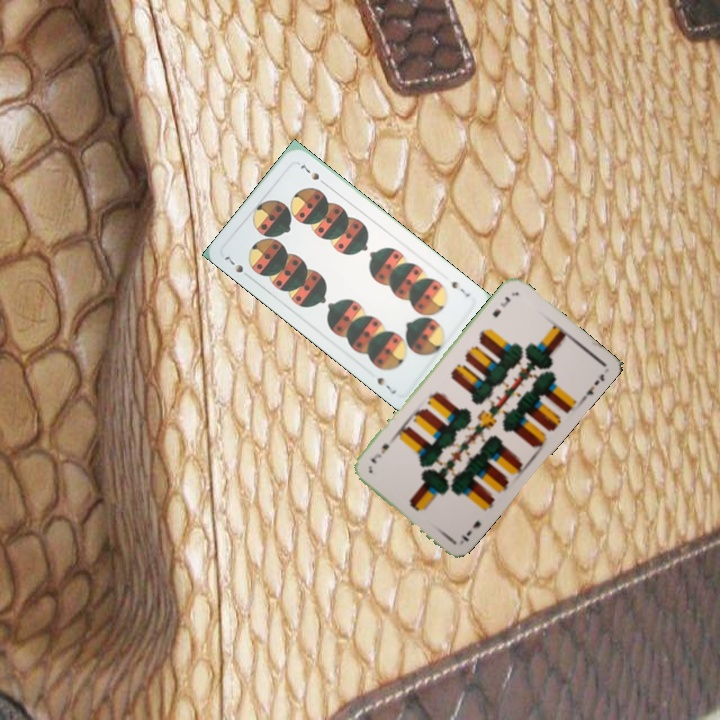E7: (457, 517, 483, 544), (488, 292, 513, 320)
S7: (220, 252, 254, 282), (447, 277, 473, 300)
